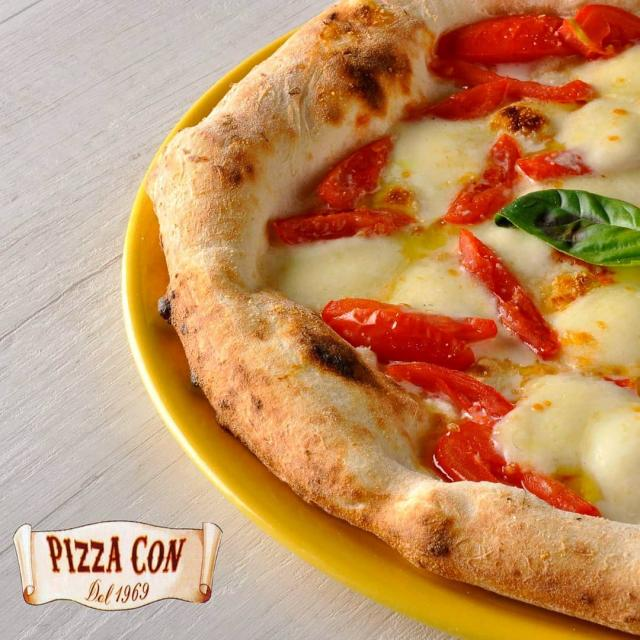basil: (495, 186, 640, 270)
pizza: (145, 0, 640, 635)
